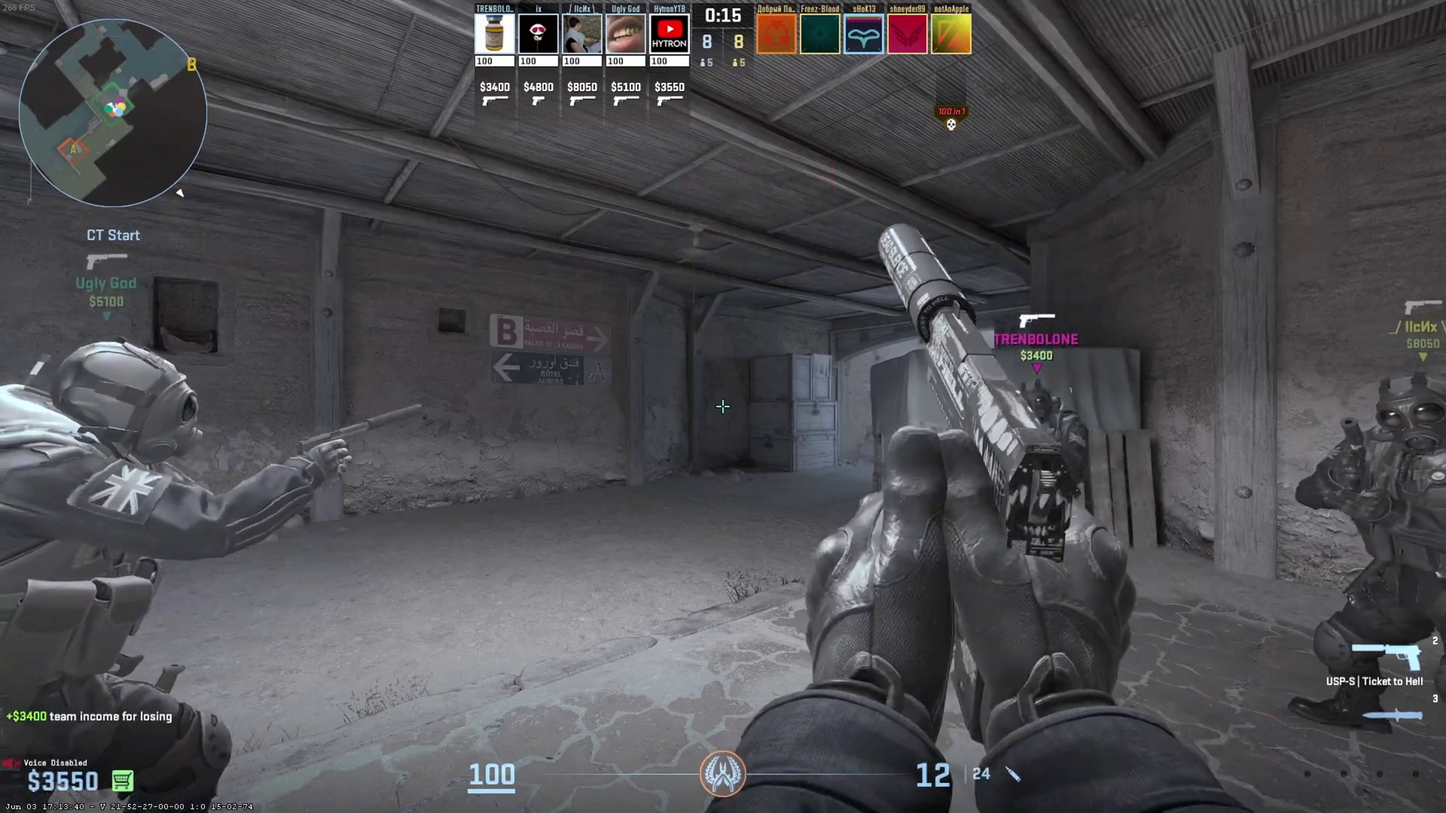CT: (0, 338, 243, 811), (1294, 375, 1446, 728), (1021, 382, 1090, 484)
